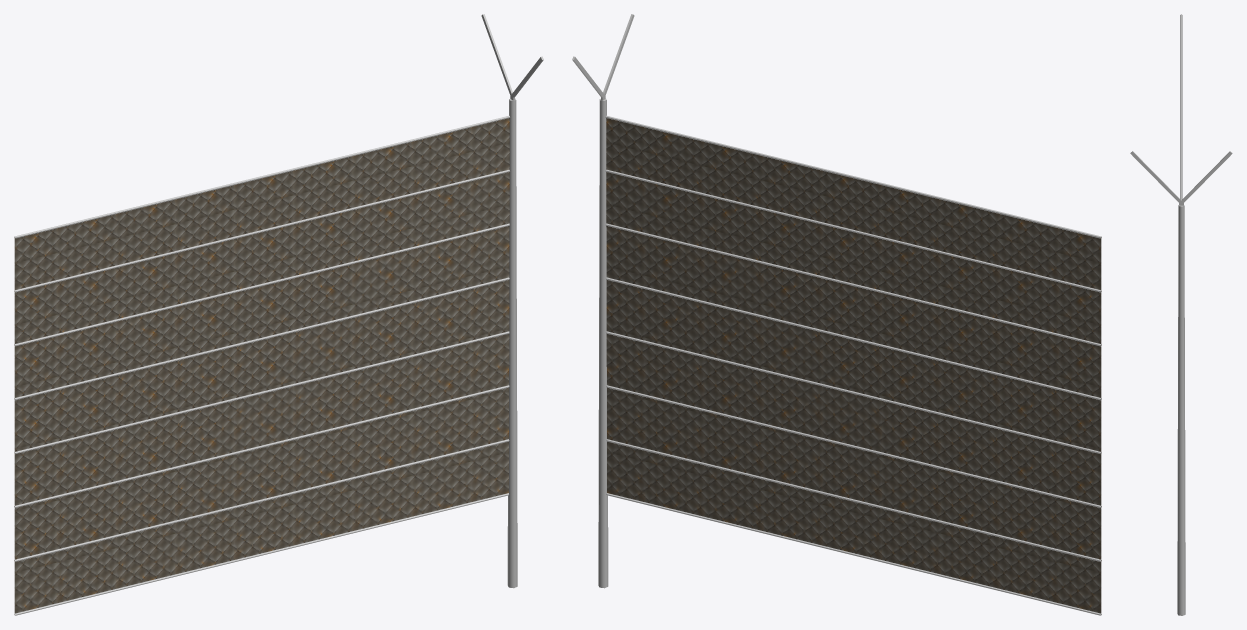
The model's file is Wire_Fence2_el1_LOD2.fbx.
3 renders of one model, left to right at view 1: azimuth 30°, elevation 25°; view 2: azimuth 150°, elevation 25°; view 3: azimuth 270°, elevation 25°, orthographic. The views are drawn at different scales.
Parts seen in each view (by area): view 1: polySurface328; view 2: polySurface328; view 3: polySurface328.
Part boxes in pixels (x1,y1,x2,y2): polySurface328: (14, 14, 543, 615); polySurface328: (572, 14, 1101, 615); polySurface328: (1130, 14, 1232, 615).
Size of the model in its own units: 5.04 by 5.28 by 1.06.
